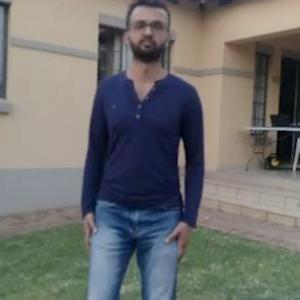follow: (88, 14, 197, 299)
